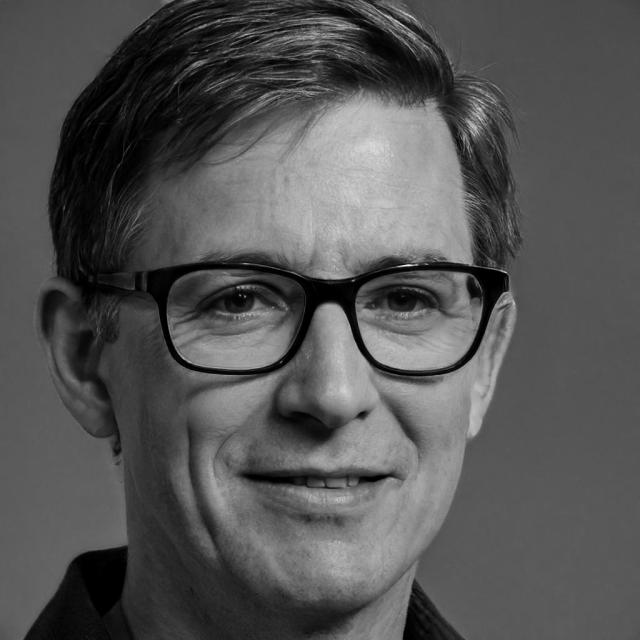lens: (167, 269, 305, 371), (356, 271, 483, 371)
